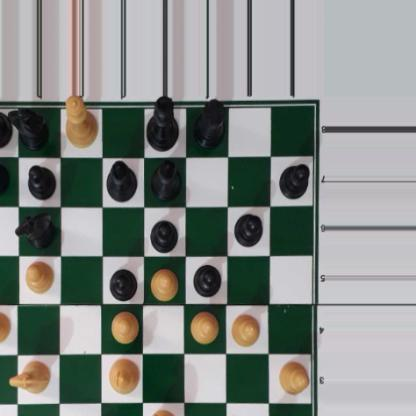black-bishop: (105, 160, 138, 201), (150, 160, 183, 200)
black-king: (147, 96, 180, 152)
black-knight: (7, 107, 50, 150), (18, 211, 54, 249)
black-pawn: (278, 162, 311, 199), (149, 216, 179, 252), (234, 212, 264, 247), (27, 162, 54, 199), (109, 266, 138, 300), (193, 262, 221, 297), (0, 159, 10, 194)
black-rook: (192, 100, 227, 149), (0, 98, 15, 149)
white-bishop: (108, 358, 140, 393)
white-knight: (8, 360, 52, 395), (148, 408, 180, 416)
white-pawn: (276, 359, 309, 396), (231, 309, 261, 348), (147, 267, 179, 299), (25, 259, 54, 294), (190, 309, 219, 343), (111, 309, 139, 343), (0, 308, 11, 343)
white-queen: (65, 96, 97, 151)
